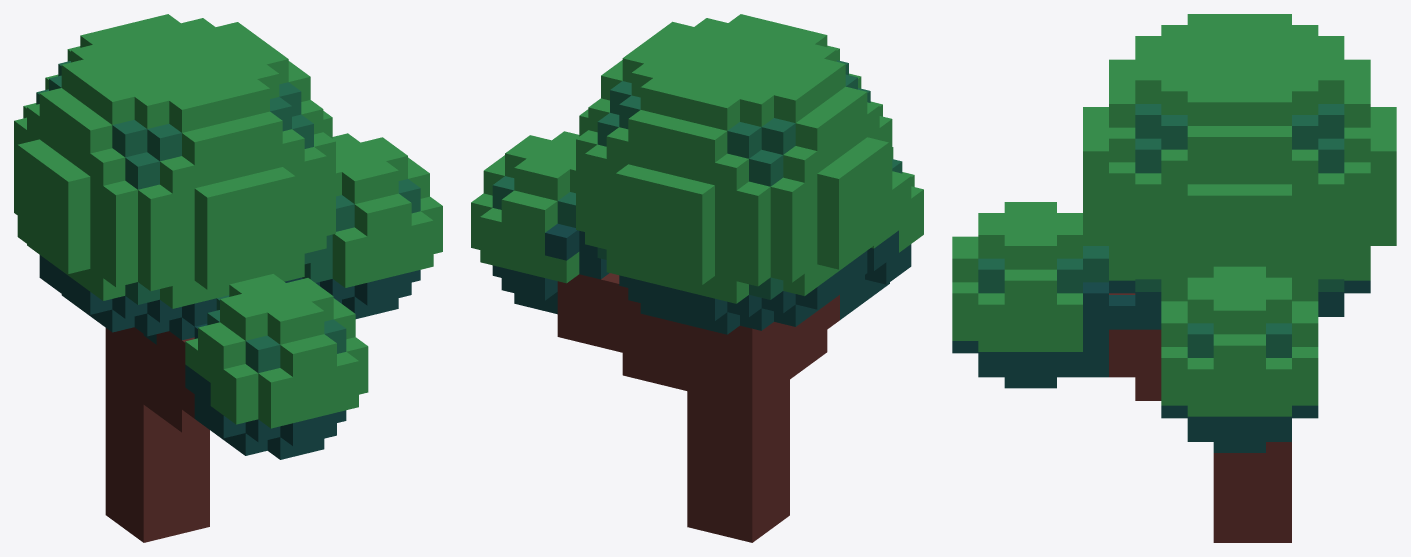
File: Tree05.obj
3 renders of one model, left to right at view 1: azimuth 30°, elevation 25°; view 2: azimuth 150°, elevation 25°; view 3: azimuth 270°, elevation 25°, orthographic. The views are drawn at different scales.
Bounding box in the file's own units: 1.7 × 2 × 1.7.
Materials: 1 (1 with a texture image).
